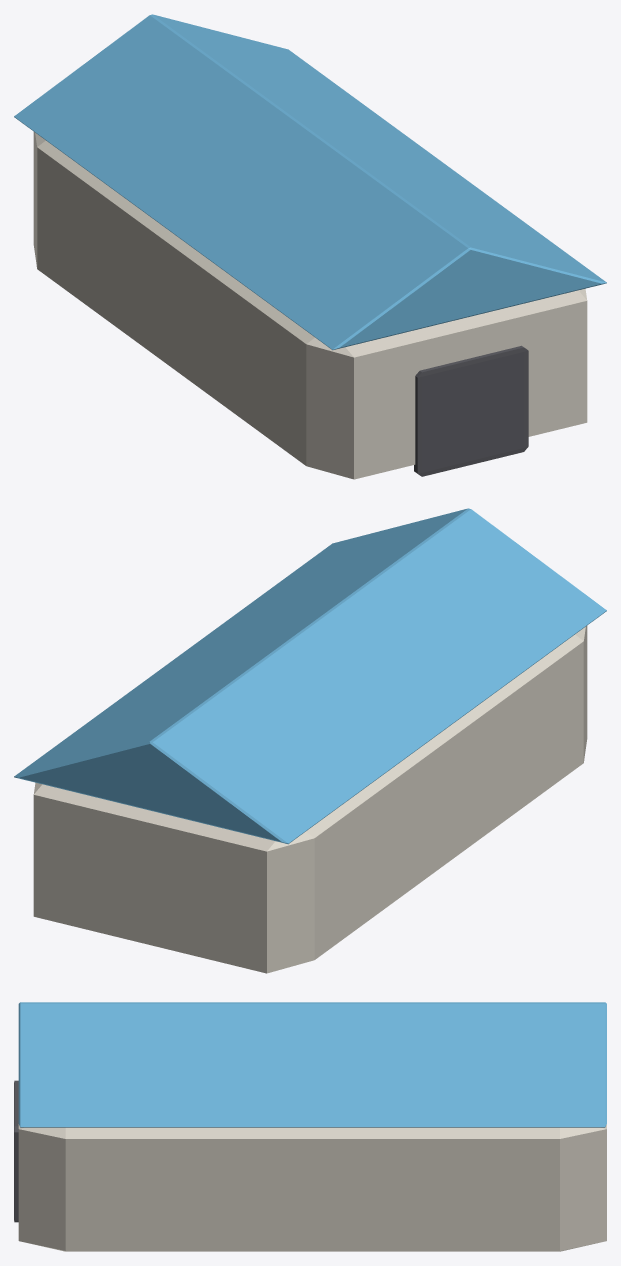
Rendered from marina_shed.glb.
3 renders of one model, top to bottom at view 1: azimuth 30°, elevation 25°; view 2: azimuth 150°, elevation 25°; view 3: azimuth 270°, elevation 25°, orthographic. The views are drawn at different scales.
Visible parts, largest first — view 1: roof, walls, slip; view 2: roof, walls; view 3: roof, walls, slip.
Boxes of the visible parts, x1,y1,x2,y2 form: roof: (14, 14, 606, 350); walls: (33, 132, 587, 479); slip: (414, 345, 528, 476); roof: (14, 508, 606, 844); walls: (33, 626, 587, 973); roof: (18, 1002, 606, 1127); walls: (18, 1124, 606, 1251); slip: (14, 1080, 18, 1222).
Size of the model in its own units: 10 by 7.37 by 20.15.
